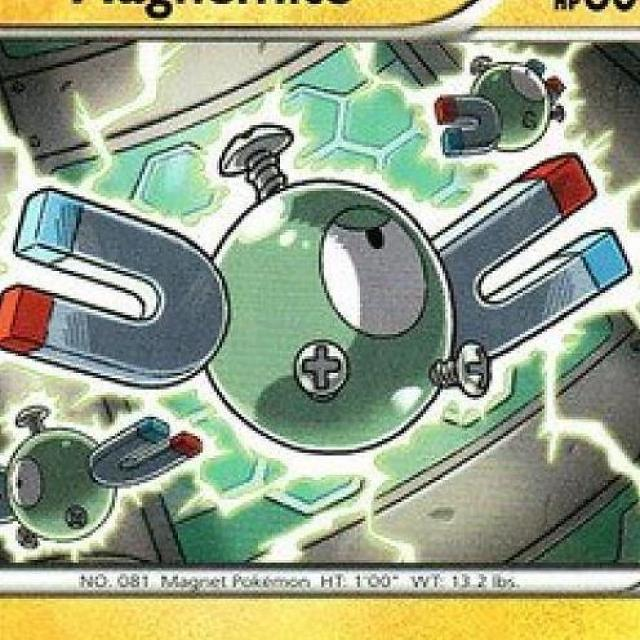Magnemite: (0, 147, 640, 456), (4, 393, 210, 560), (430, 50, 574, 154)
